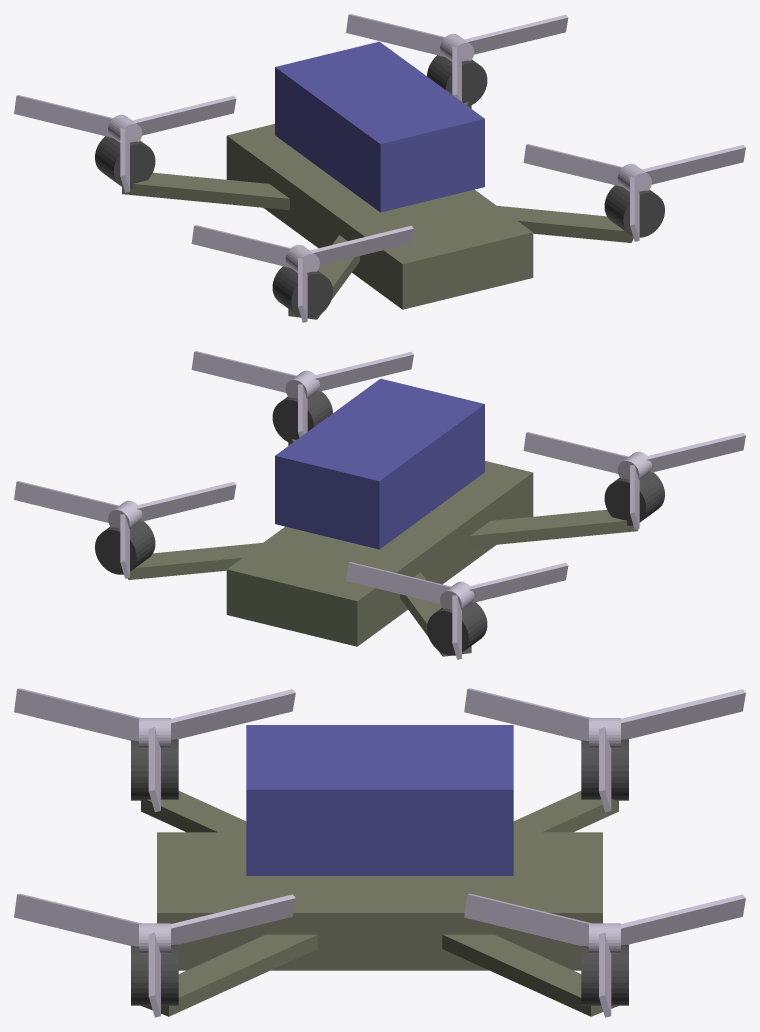
Rendered from HummingBird V3.glb.
3 views of the same model, one above another, from view 1: azimuth 30°, elevation 25°; view 2: azimuth 150°, elevation 25°; view 3: azimuth 270°, elevation 25° (orthographic). The views are drawn at different scales.
Parts seen in each view (by area): view 1: battery, frame_body, prop_0, prop_2, prop_3, prop_1, arm_3, arm_0, motor_0, motor_2, motor_3, motor_1 (+1 smaller); view 2: battery, frame_body, prop_2, prop_3, prop_1, prop_0, arm_2, arm_1, motor_1, motor_3, motor_2, motor_0 (+1 smaller); view 3: battery, frame_body, prop_1, prop_0, prop_3, prop_2, arm_1, arm_0, arm_3, arm_2, motor_1, motor_0 (+2 smaller).
Part boxes in pixels (x1,y1,x2,y2): battery: (275, 41, 484, 212); frame_body: (226, 124, 533, 309); prop_0: (523, 144, 745, 241); prop_2: (191, 225, 413, 322); prop_3: (14, 95, 236, 192); prop_1: (346, 14, 568, 101); arm_3: (122, 172, 289, 210); arm_0: (497, 205, 633, 242); motor_0: (604, 185, 664, 237); motor_2: (272, 266, 332, 318); motor_3: (95, 136, 155, 188); motor_1: (427, 55, 487, 106); battery: (275, 378, 484, 549); frame_body: (226, 461, 533, 646); prop_2: (523, 432, 745, 529); prop_3: (346, 562, 568, 659); prop_1: (14, 481, 236, 578); prop_0: (191, 351, 413, 437); arm_2: (470, 509, 637, 547); arm_1: (128, 542, 262, 579); motor_1: (95, 521, 155, 574); motor_3: (427, 602, 487, 655); motor_2: (604, 472, 664, 525); motor_0: (272, 391, 332, 443); battery: (246, 725, 513, 875); frame_body: (157, 832, 602, 970); prop_1: (464, 893, 745, 1017); prop_0: (14, 893, 295, 1017); prop_3: (464, 688, 745, 812); prop_2: (14, 688, 295, 812); arm_1: (442, 934, 618, 1016); arm_0: (141, 934, 317, 1016); arm_3: (513, 791, 618, 832); arm_2: (141, 791, 246, 832); motor_1: (581, 944, 628, 1005); motor_0: (131, 944, 178, 1005).
Size of the model in its own units: 0.2293 by 0.06 by 0.2299.
